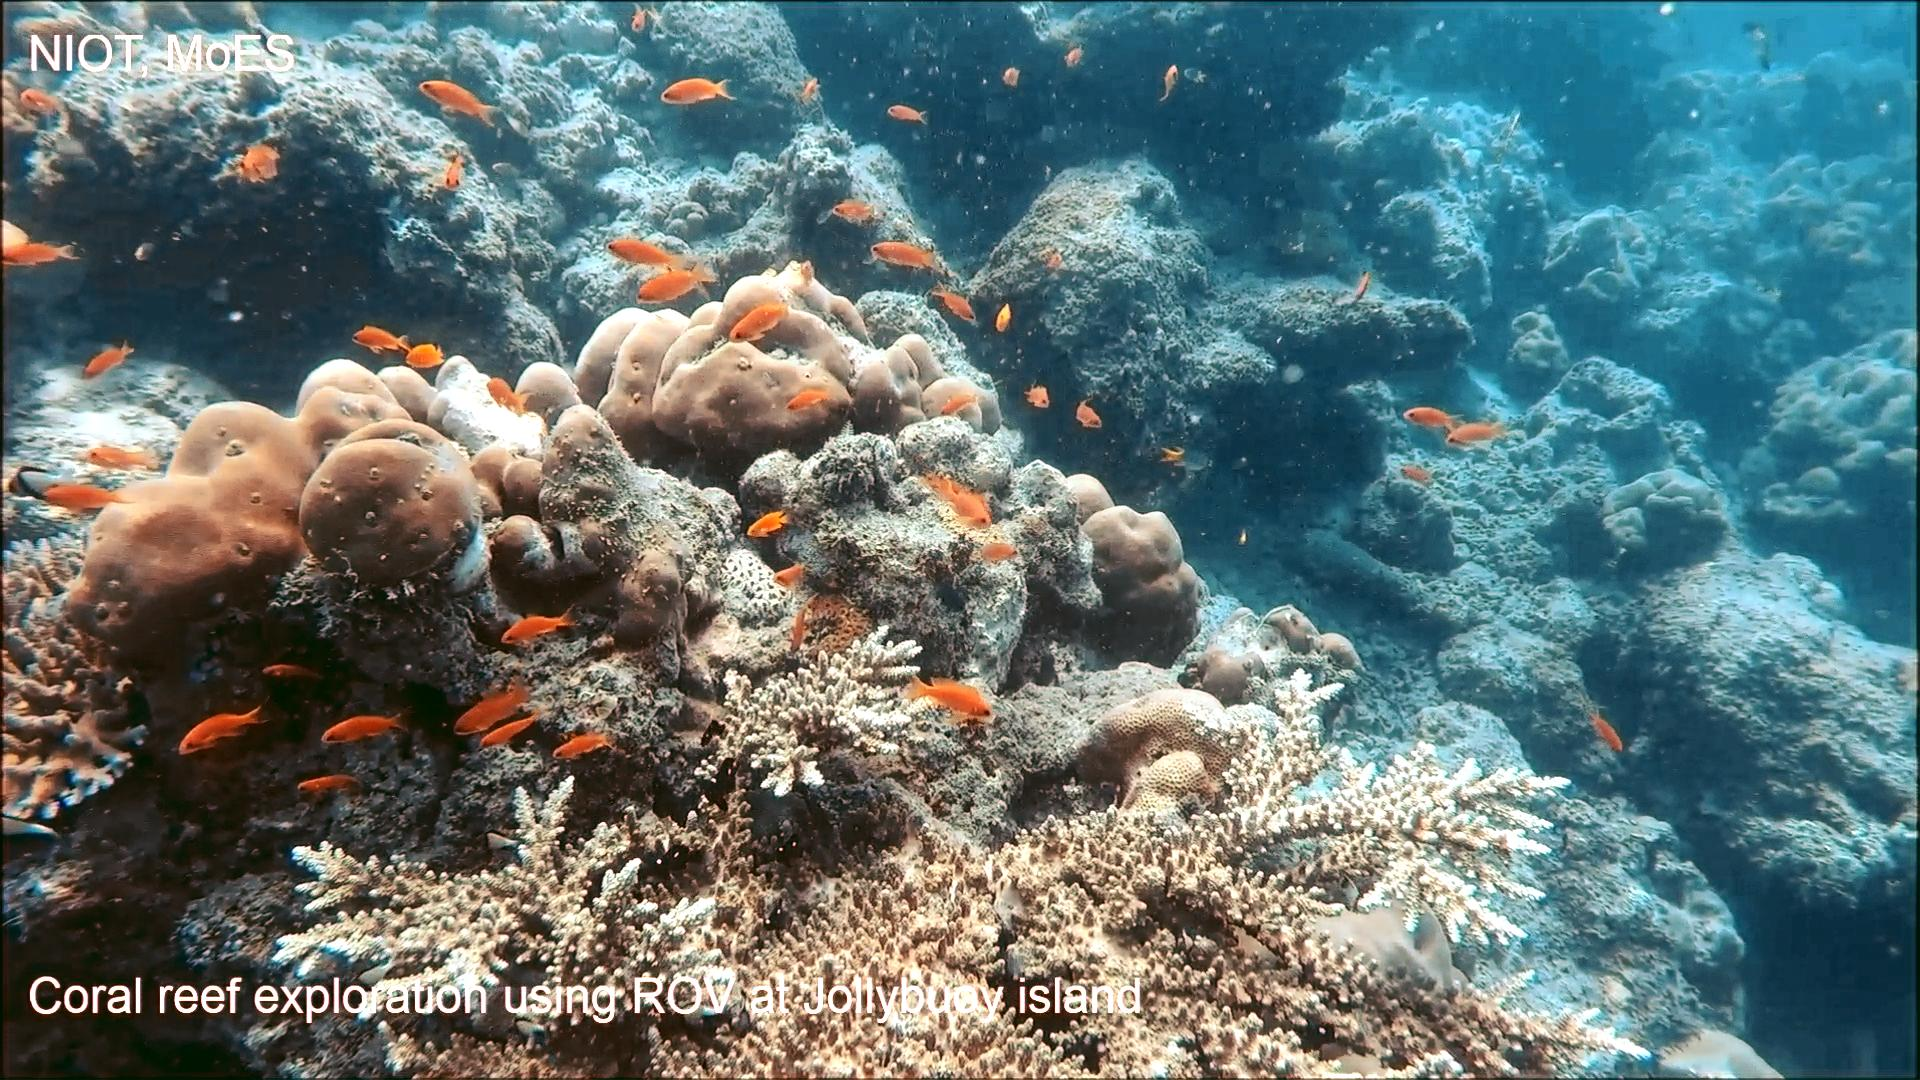Porites-Porites pukoensis: (54, 352, 487, 676), (549, 258, 1014, 464)
